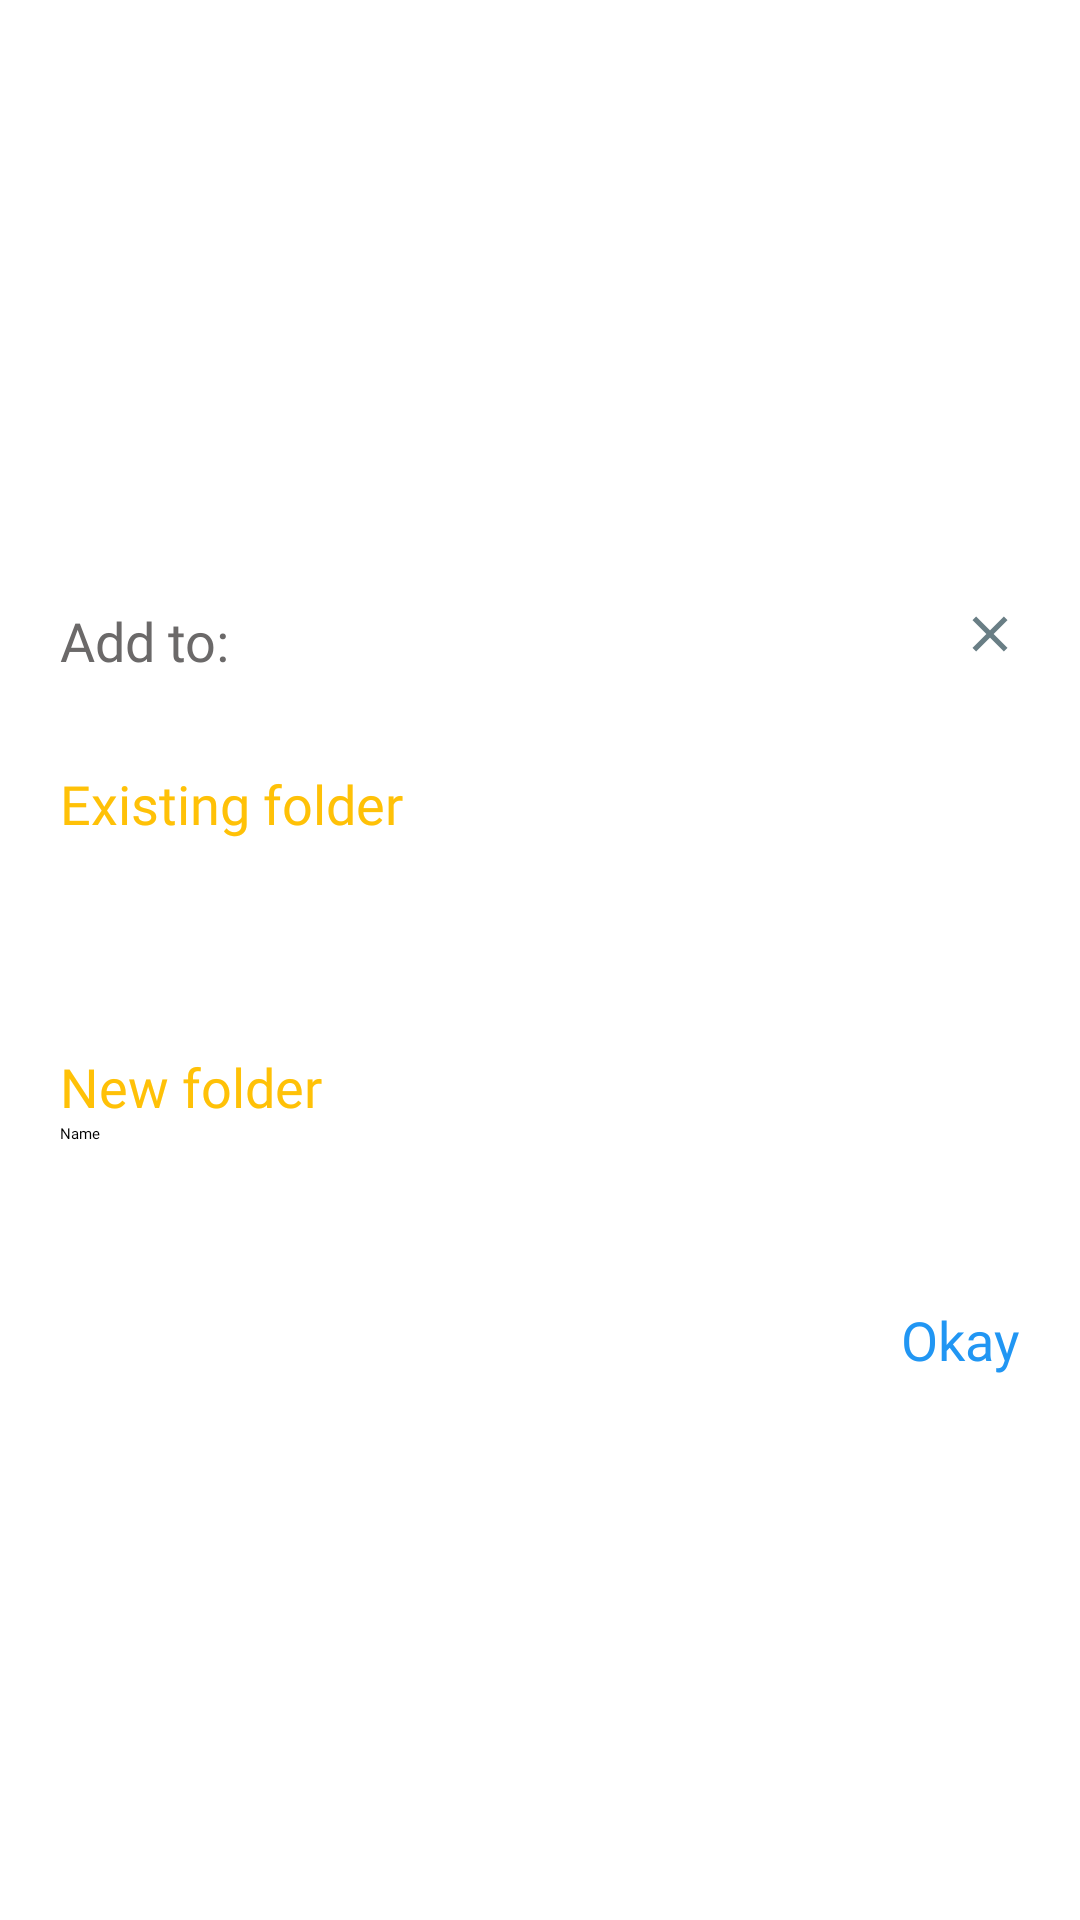

Icon bounding boxes for this 1080 x 1920 phone screenshot, format (x1, y1, x2, y2):
close: (972, 616, 1008, 652)
